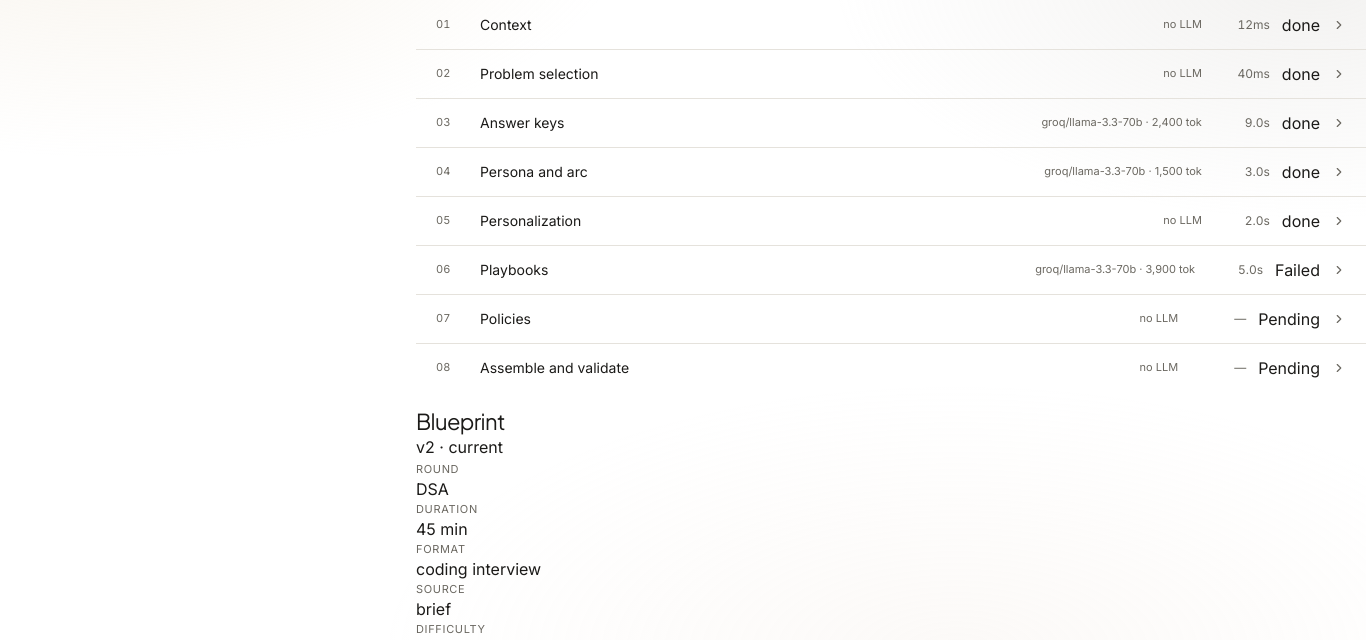
Scenario: PrepTab · run detail › opens an LLM stage drawer with prompts, validity and the stage error
(page scrolled)
Click the button "06 Playbooks groq/llama-3.3-70b · 3,900 tok 5.0s Failed". click: (514, 269)
box: [416,246,1365,294]
(page scrolled)
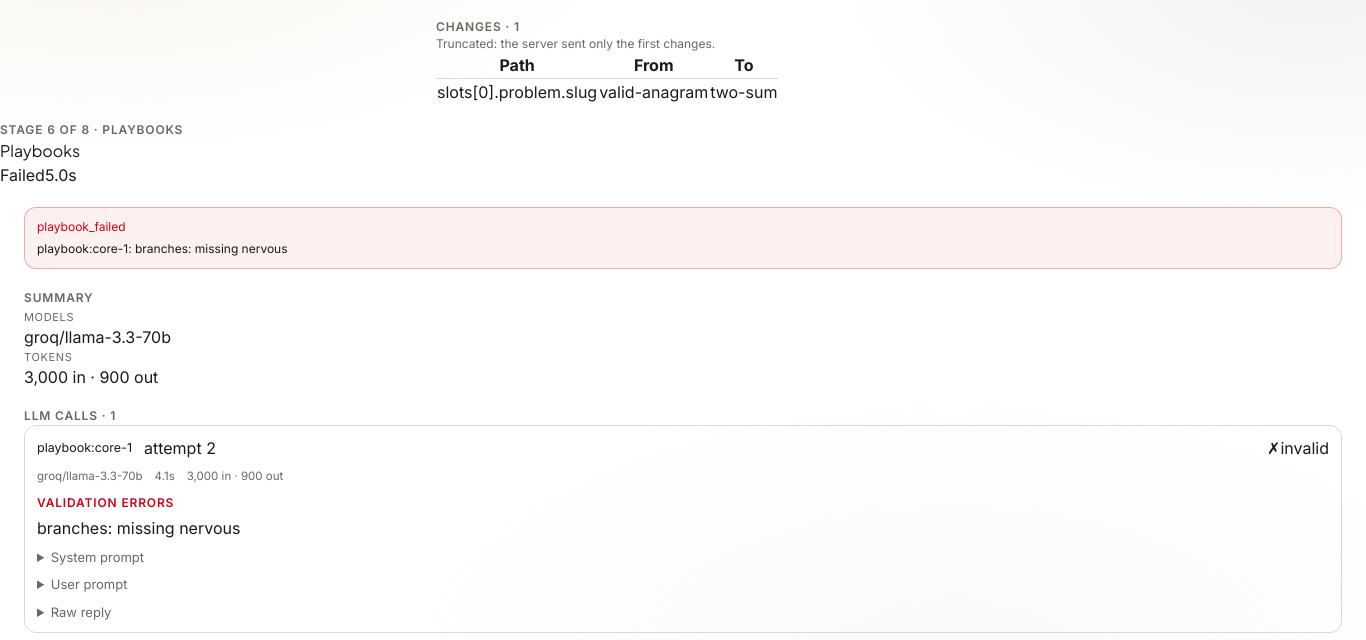
Result: the text "playbook_failed" is shown at [37,219,126,234]
Result: the text "playbook:core-1" is shown at [37,439,132,458]
Result: the text "invalid" is shown at [1280,438,1329,458]
